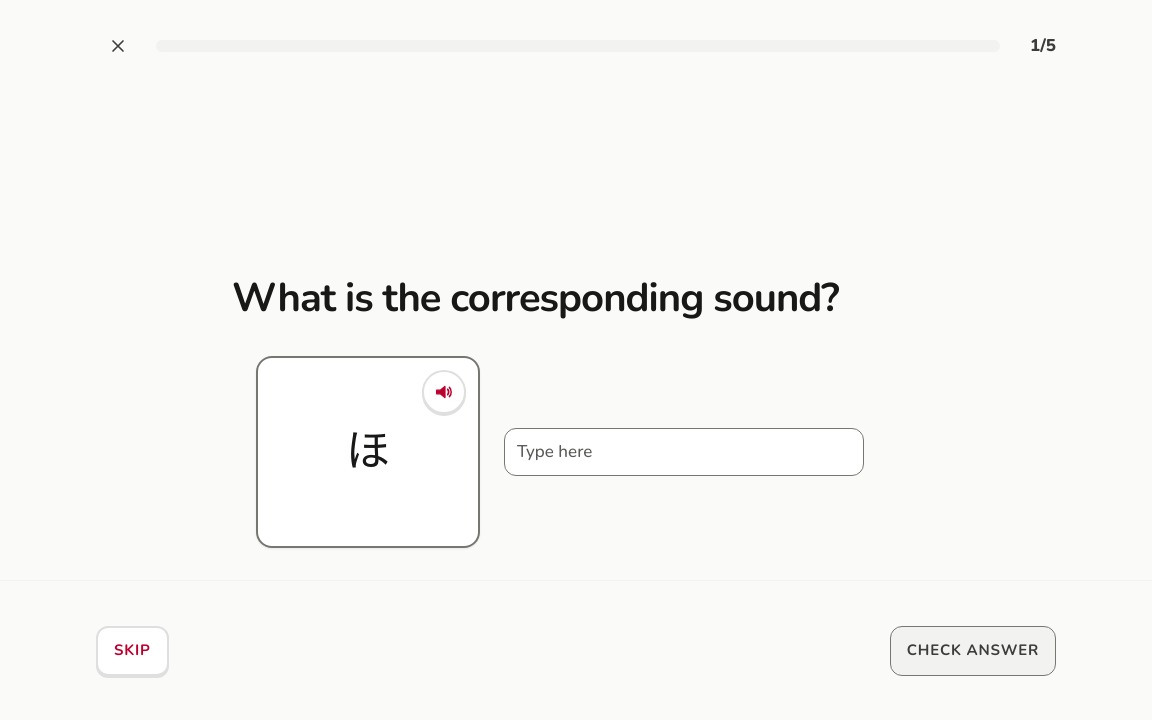
Test case: submits the latest typed answer when Enter is pressed on the page
Expected: the heading "What is the corresponding sound?" is shown, [232, 276, 920, 320]
Type "ho" into the field.
click(684, 452); type("ho")  # box [504, 428, 864, 476]
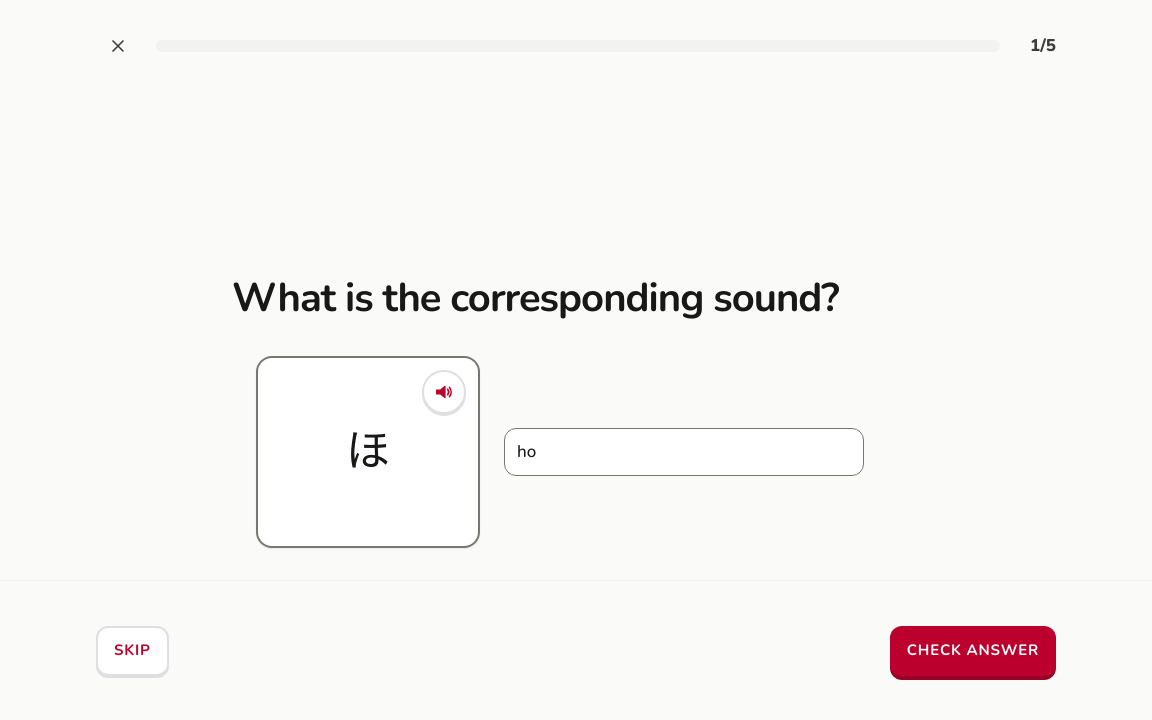
Press Enter
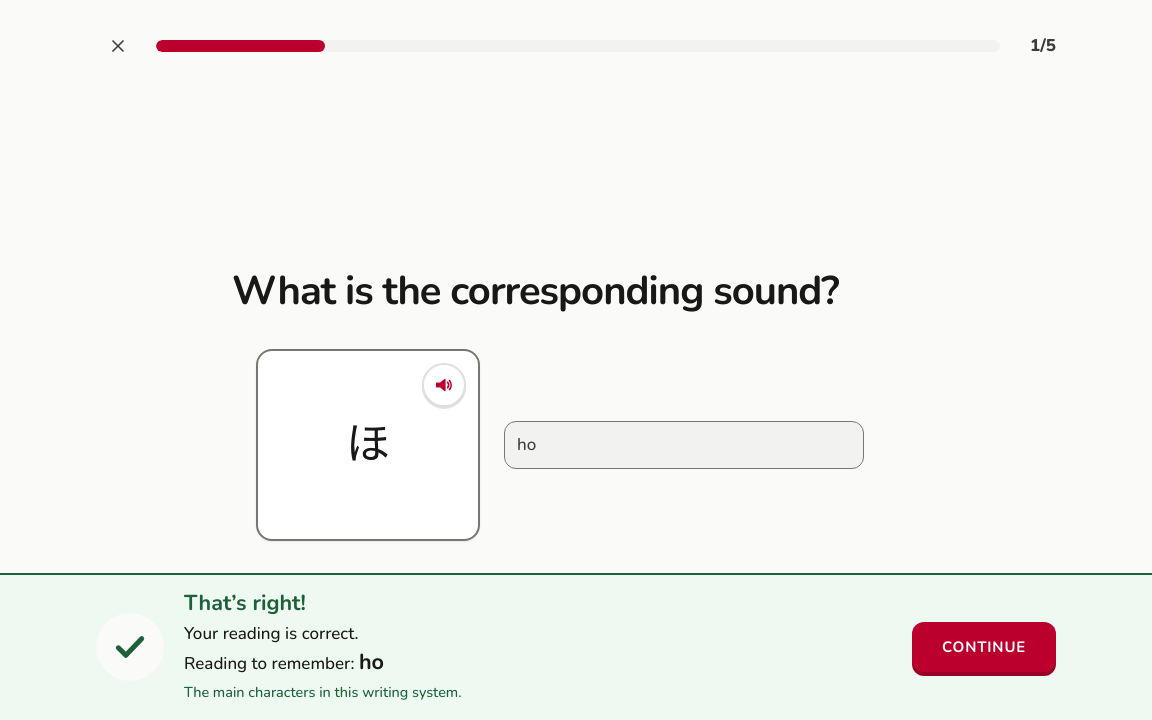
Now the message shows "Your reading is correct.", box [184, 622, 359, 645]
